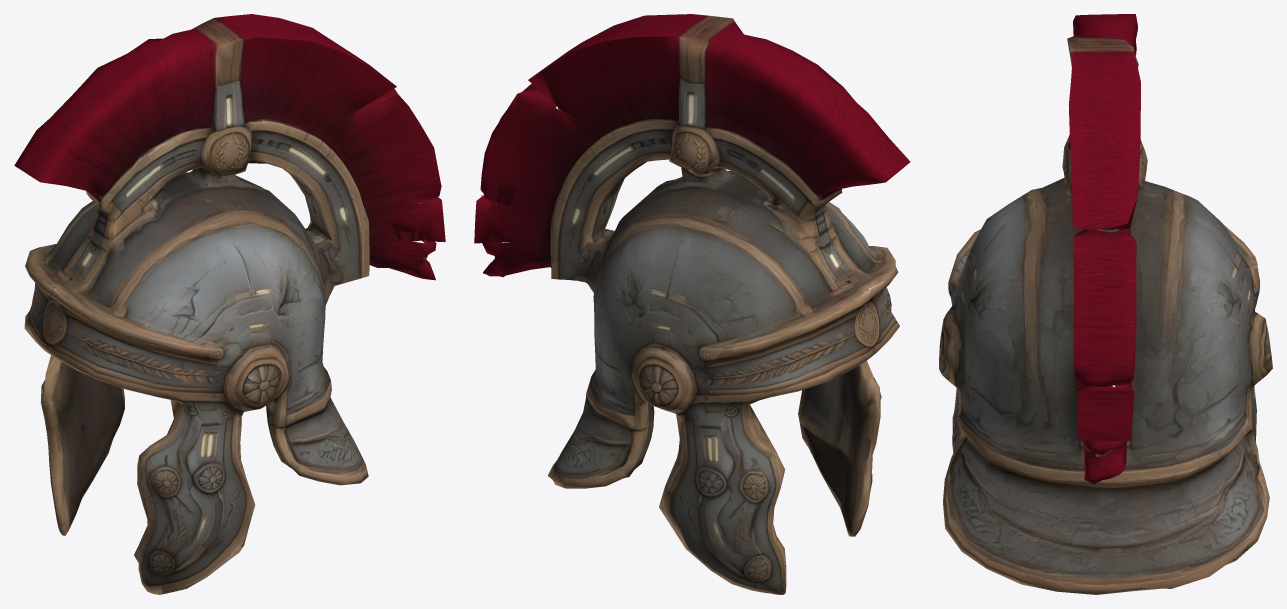
Rendered from roman helmet 3d model.glb.
The picture shows the model from 3 angles, left to right: view 1: azimuth 30°, elevation 25°; view 2: azimuth 150°, elevation 25°; view 3: azimuth 270°, elevation 25°; orthographic projection. The views are drawn at different scales.
Visible parts, largest first — view 1: tripo_node_1fc83c10; view 2: tripo_node_1fc83c10; view 3: tripo_node_1fc83c10.
Part boxes in pixels (x1=…): tripo_node_1fc83c10: x1=14, y1=14, x2=445, y2=594; tripo_node_1fc83c10: x1=474, y1=14, x2=910, y2=594; tripo_node_1fc83c10: x1=939, y1=14, x2=1272, y2=594.
Size of the model in its own units: 82.85 by 98.75 by 53.71.
1 material, 1 textured.
